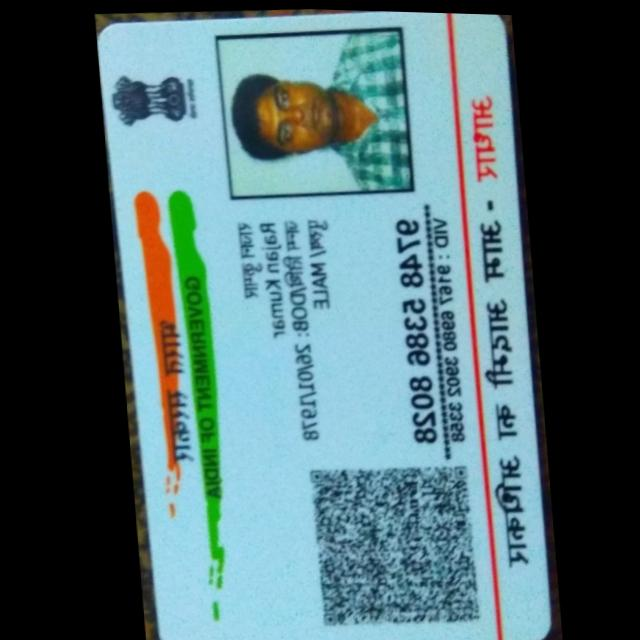aadhaar: (95, 2, 558, 640)
